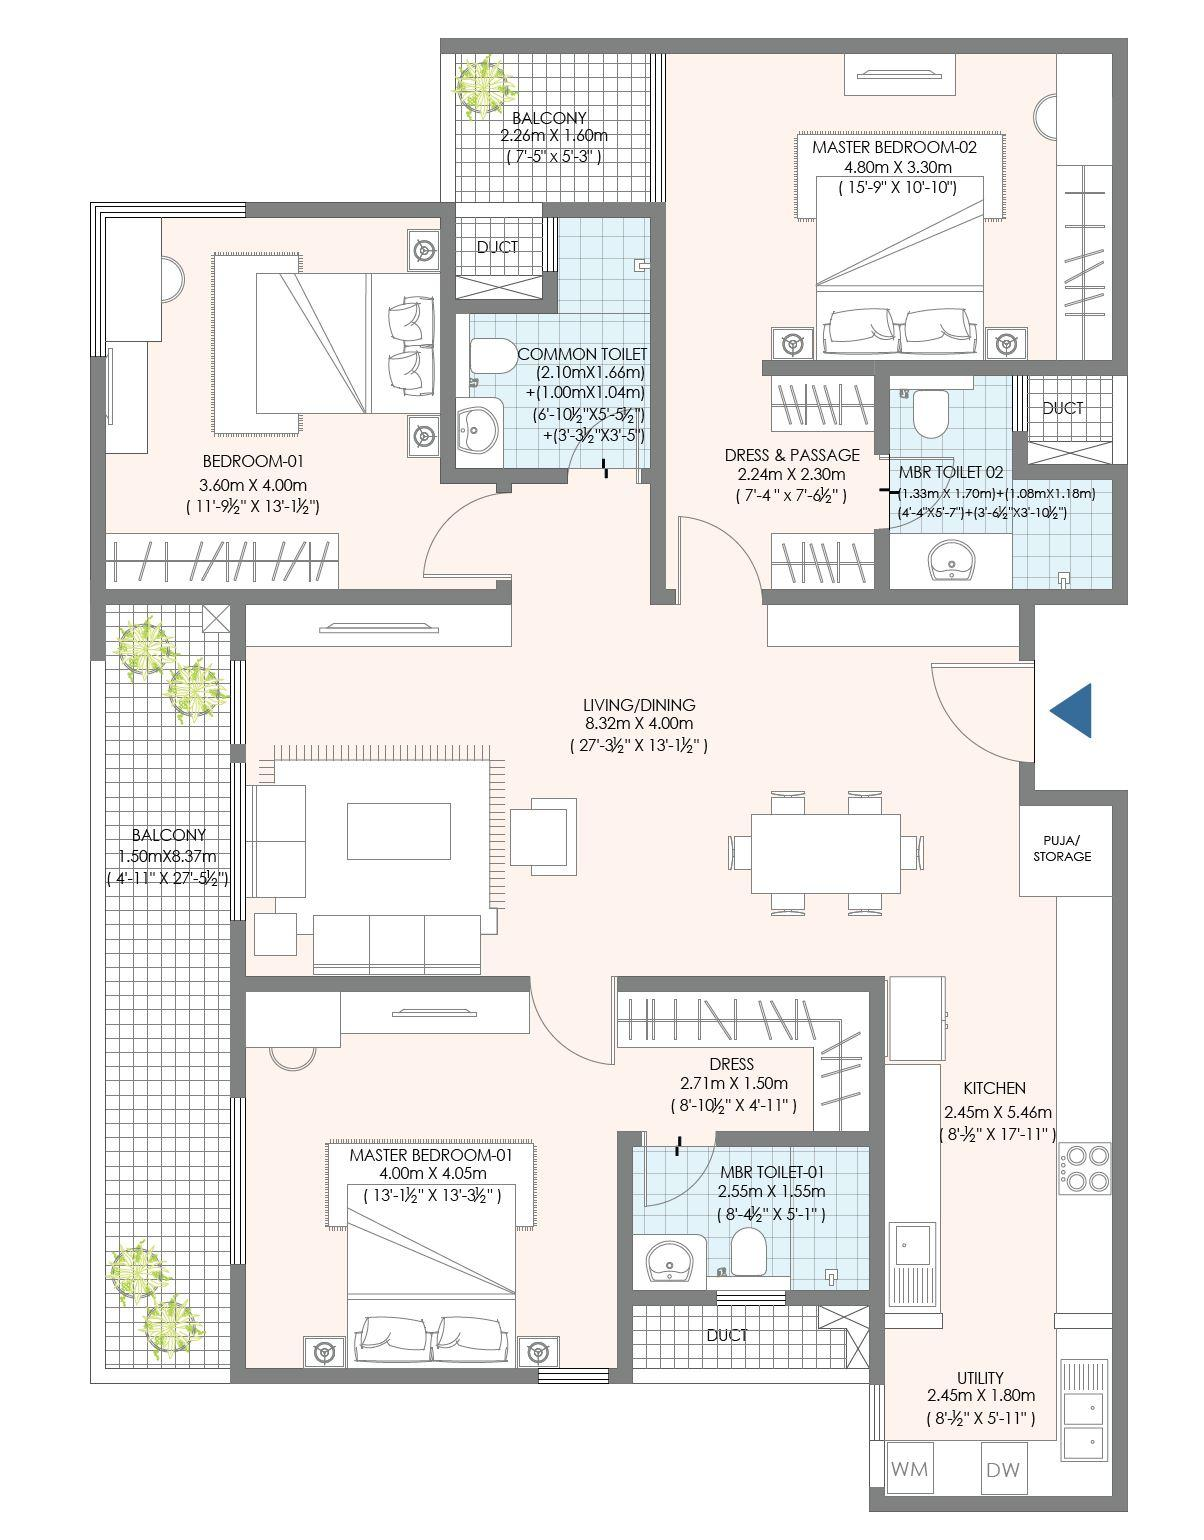Balcony: (96, 614, 238, 1366), (446, 57, 658, 202)
Bed: (814, 180, 991, 366), (348, 1180, 520, 1362), (256, 274, 433, 410)
Bedroom: (238, 984, 880, 1367), (101, 212, 431, 589)
Dining Room: (676, 606, 1021, 980)
Dining table: (720, 772, 931, 924)
Kitchen: (886, 820, 1111, 1287)
Living Room: (243, 601, 651, 992)
Sofa: (308, 912, 484, 972), (246, 787, 303, 892), (506, 800, 578, 872)
Terrace: (99, 602, 230, 1365)
Wardrobe: (611, 986, 866, 1052), (1056, 72, 1113, 357), (106, 532, 338, 592), (764, 610, 1021, 644), (814, 992, 870, 1130), (768, 374, 880, 432), (776, 532, 870, 586)
commode: (910, 380, 956, 437), (728, 1226, 771, 1282), (466, 332, 520, 370)
door: (931, 666, 1041, 774), (418, 484, 520, 582), (671, 520, 766, 617), (534, 977, 621, 1067), (560, 400, 640, 482), (631, 1140, 716, 1200)
dress: (614, 977, 878, 1130)
duct: (626, 1302, 876, 1376), (1021, 374, 1114, 464), (454, 204, 540, 300)
fridge: (889, 975, 946, 1061)
kitchen-slab: (1051, 894, 1114, 1497), (890, 1066, 944, 1317)
sink: (1061, 1356, 1111, 1470), (906, 532, 991, 592), (891, 1222, 938, 1322), (634, 1232, 704, 1280), (456, 402, 500, 466)
stove: (1058, 1142, 1114, 1197)
toilet: (454, 210, 651, 470), (890, 376, 1130, 584), (635, 1155, 868, 1287)
tv: (303, 607, 464, 647), (353, 992, 496, 1026), (851, 52, 950, 100)
utility: (890, 1302, 1116, 1494)
washing-machine: (886, 1441, 1050, 1496)
